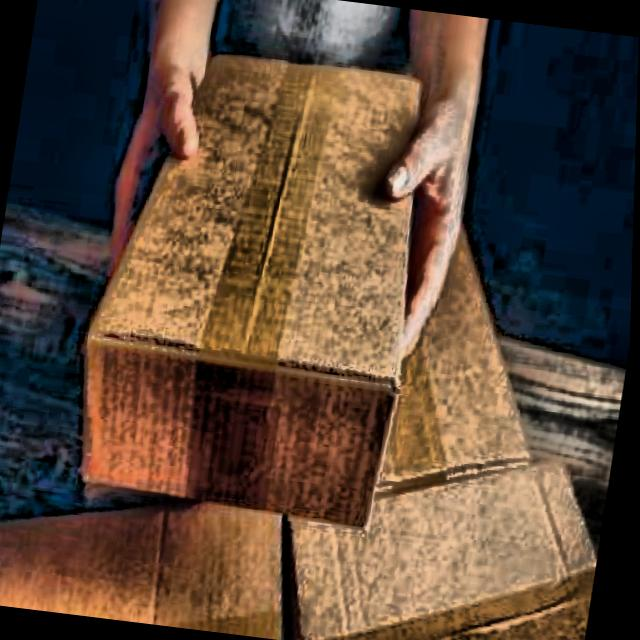Cardbox: (63, 28, 491, 558)
